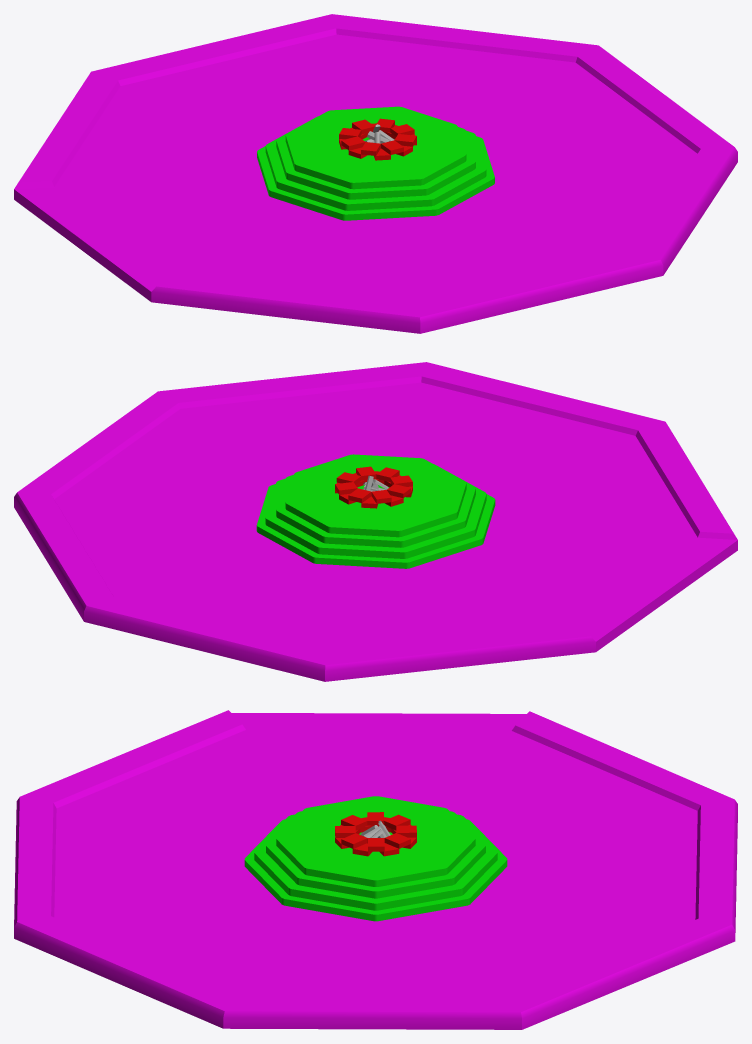
Rendered from Knight-FIREplace.fbx.
3 views of the same model, one above another, from view 1: azimuth 30°, elevation 25°; view 2: azimuth 150°, elevation 25°; view 3: azimuth 270°, elevation 25° (orthographic). The views are drawn at different scales.
Visible parts, largest first — view 1: pCylinder9, pCylinder2, group4_group1_pCube2, group4_group1_pCube1; view 2: pCylinder9, pCylinder2, group4_group1_pCube2, group4_group1_pCube1; view 3: pCylinder9, pCylinder2, group4_group1_pCube2, group4_group1_pCube1.
Part boxes in pixels (x1=…): pCylinder9: x1=14, y1=14, x2=737, y2=333; pCylinder2: x1=257, y1=106, x2=494, y2=220; group4_group1_pCube2: x1=339, y1=118, x2=416, y2=155; group4_group1_pCube1: x1=339, y1=123, x2=416, y2=160; pCylinder9: x1=14, y1=362, x2=737, y2=681; pCylinder2: x1=256, y1=454, x2=495, y2=568; group4_group1_pCube2: x1=335, y1=466, x2=412, y2=503; group4_group1_pCube1: x1=335, y1=471, x2=412, y2=508; pCylinder9: x1=14, y1=710, x2=737, y2=1029; pCylinder2: x1=244, y1=796, x2=507, y2=921; group4_group1_pCube2: x1=335, y1=812, x2=416, y2=851; group4_group1_pCube1: x1=335, y1=817, x2=416, y2=856.
Bounding box in the file's own units: 15.13 × 1.33 × 15.13.
